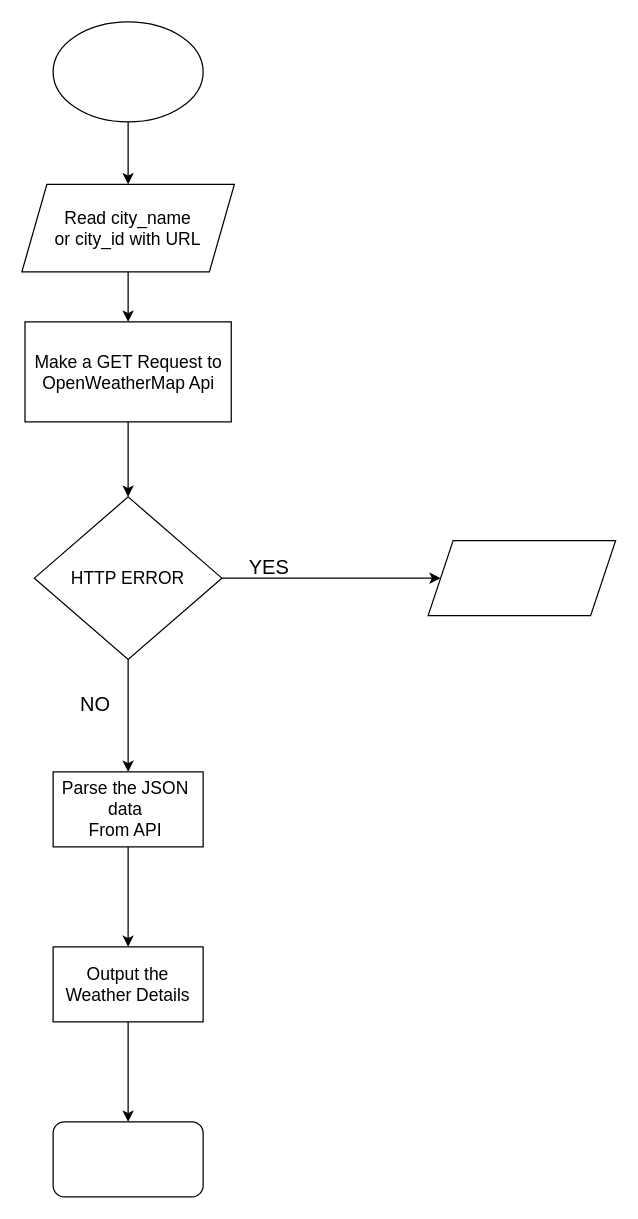
This 638x1219 diagram has some shape labels left out. Each missing label, with the centre of its shape:
Prompt a error message: the point at 521,577
Start: the point at 127,71
Stop: the point at 127,1159
